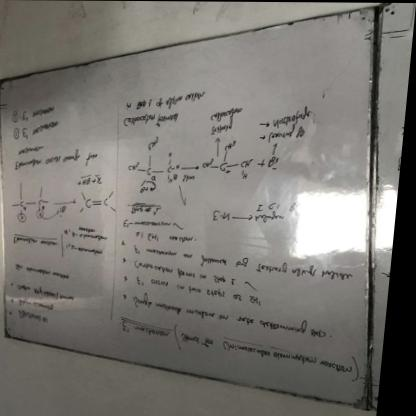Handwritten text: (135, 289, 341, 346), (146, 246, 363, 293), (182, 329, 364, 380), (150, 273, 273, 308), (135, 256, 237, 290), (11, 144, 115, 173), (121, 109, 189, 131)
Whiteboard: (0, 10, 382, 414)
